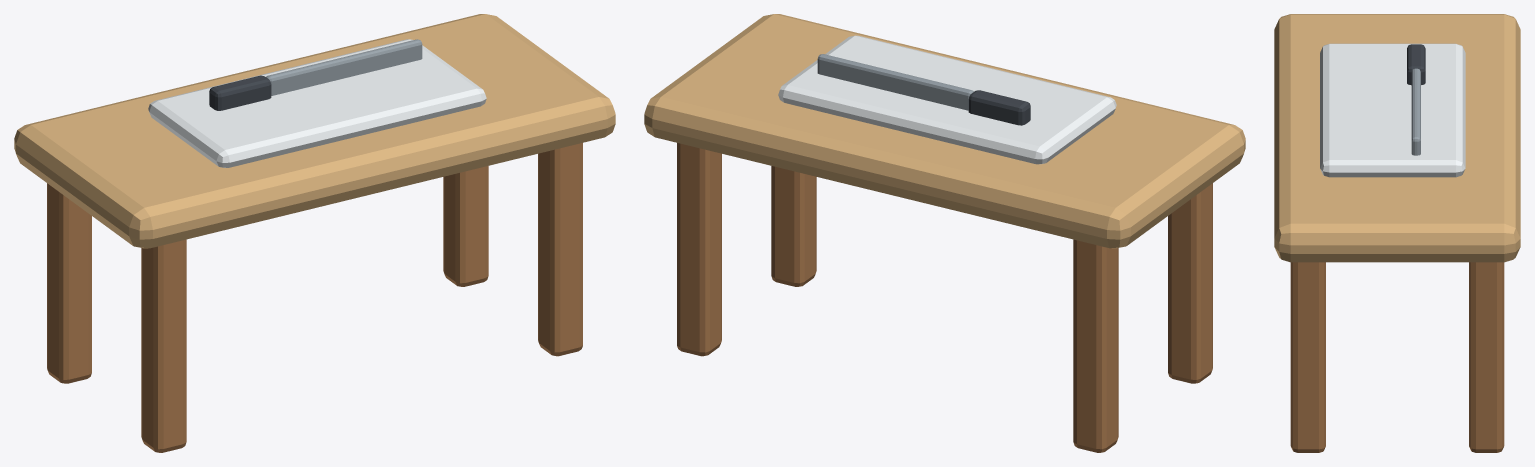
Rendered from ChoppingTable.fbx.
The picture shows the model from 3 angles, left to right: view 1: azimuth 30°, elevation 25°; view 2: azimuth 150°, elevation 25°; view 3: azimuth 270°, elevation 25°; orthographic projection. The views are drawn at different scales.
Visible parts, largest first — view 1: Top, CuttingBoard, Leg_-0.92_-0.38, Leg_0.92_-0.38, Leg_-0.92_0.38, Leg_0.92_0.38, KnifeBlade, KnifeHandle; view 2: Top, CuttingBoard, Leg_-0.92_0.38, Leg_0.92_0.38, Leg_-0.92_-0.38, Leg_0.92_-0.38, KnifeBlade, KnifeHandle; view 3: Top, CuttingBoard, Leg_0.92_-0.38, Leg_0.92_0.38, KnifeBlade, KnifeHandle.
Part boxes in pixels (<box>): Top: <box>14,14,615,248</box>; CuttingBoard: <box>148,39,486,167</box>; Leg_-0.92_-0.38: <box>141,239,186,452</box>; Leg_0.92_-0.38: <box>538,143,582,356</box>; Leg_-0.92_0.38: <box>47,183,91,383</box>; Leg_0.92_0.38: <box>443,166,488,286</box>; KnifeBlade: <box>266,39,422,95</box>; KnifeHandle: <box>209,75,271,110</box>; Top: <box>644,14,1245,248</box>; CuttingBoard: <box>778,35,1116,164</box>; Leg_-0.92_0.38: <box>1073,239,1118,452</box>; Leg_0.92_0.38: <box>677,143,721,356</box>; Leg_-0.92_-0.38: <box>1168,183,1212,383</box>; Leg_0.92_-0.38: <box>771,166,816,286</box>; KnifeBlade: <box>817,54,973,110</box>; KnifeHandle: <box>968,90,1030,125</box>; Top: <box>1274,14,1520,262</box>; CuttingBoard: <box>1320,43,1465,177</box>; Leg_0.92_-0.38: <box>1290,262,1325,452</box>; Leg_0.92_0.38: <box>1469,262,1504,452</box>; KnifeBlade: <box>1411,68,1420,155</box>; KnifeHandle: <box>1407,44,1425,85</box>.
Size of the model in its own units: 2.25 by 1.28 by 1.05.
